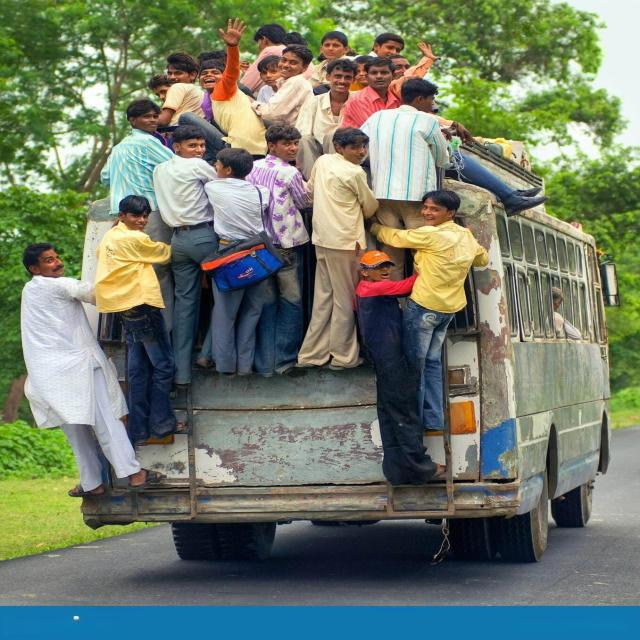bus: (83, 180, 610, 559)
